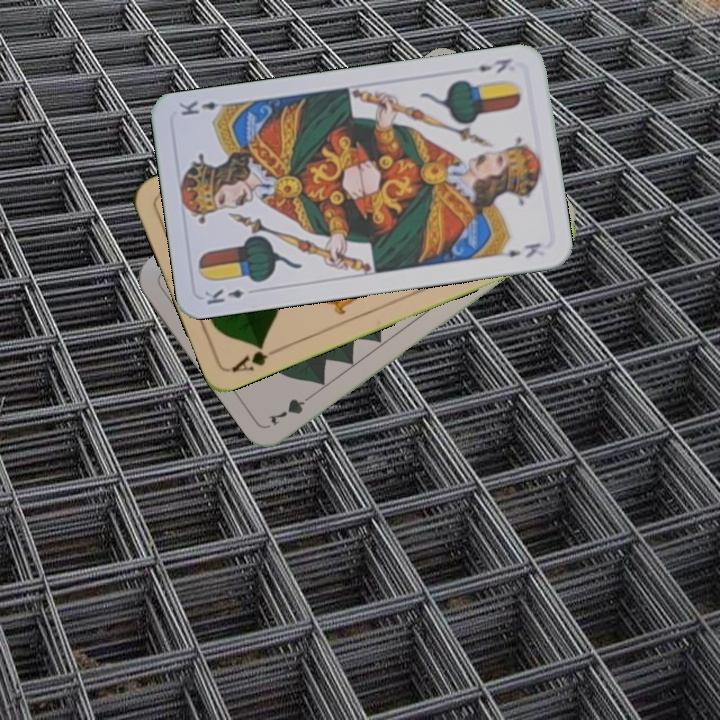EK: (462, 54, 514, 76), (200, 284, 246, 308)
G7: (264, 388, 319, 428)
GA: (227, 339, 284, 375)
